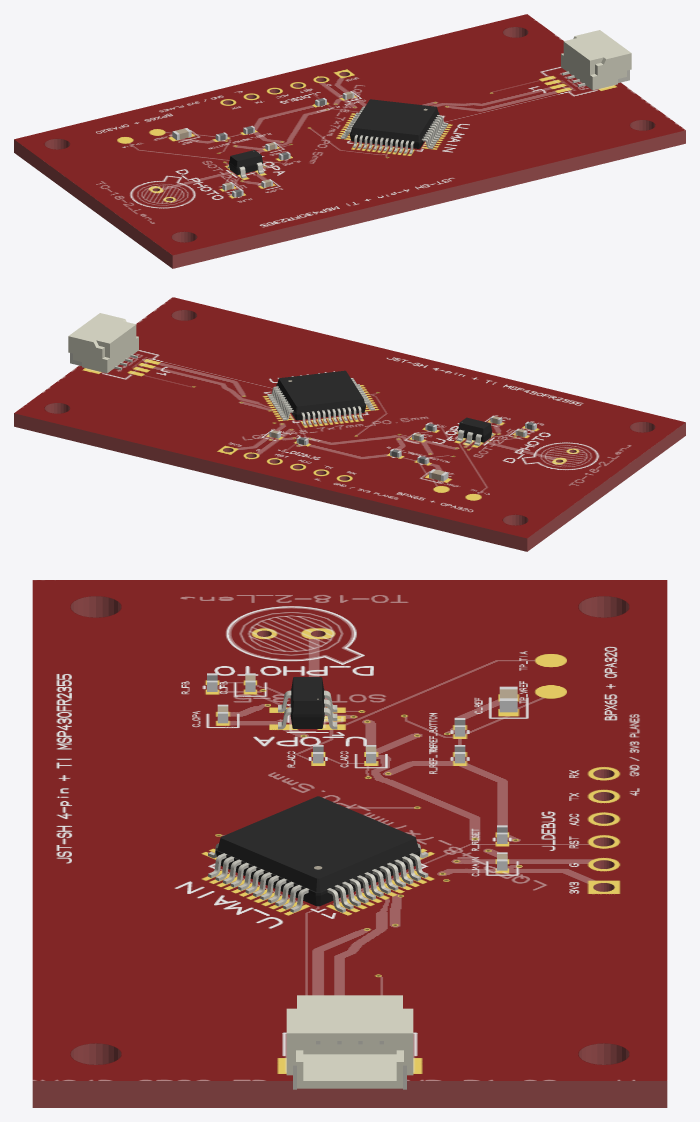
3 views of the same model, one above another, from view 1: azimuth 30°, elevation 25°; view 2: azimuth 150°, elevation 25°; view 3: azimuth 270°, elevation 25° (orthographic). The views are drawn at different scales.
Visible parts, largest first — view 1: Box0, U_MAIN, J1, U_OPA; view 2: Box0, U_MAIN, J1, U_OPA; view 3: Box0, U_MAIN, J1, U_OPA.
Boxes of the visible parts, left/top/right/bottom form: Box0: left=14, top=14, right=685, bottom=268; U_MAIN: left=340, top=99, right=448, bottom=154; J1: left=561, top=30, right=631, bottom=90; U_OPA: left=227, top=150, right=264, bottom=178; Box0: left=14, top=297, right=685, bottom=551; U_MAIN: left=267, top=370, right=374, bottom=425; J1: left=68, top=313, right=138, bottom=373; U_OPA: left=456, top=417, right=493, bottom=445; Box0: left=32, top=580, right=667, bottom=1107; U_MAIN: left=208, top=796, right=428, bottom=912; J1: left=286, top=995, right=413, bottom=1089; U_OPA: left=278, top=677, right=337, bottom=729.
Bounding box in the file's own units: 57 × 4.36 × 30.
Materials: 10 (2 with a texture image).
